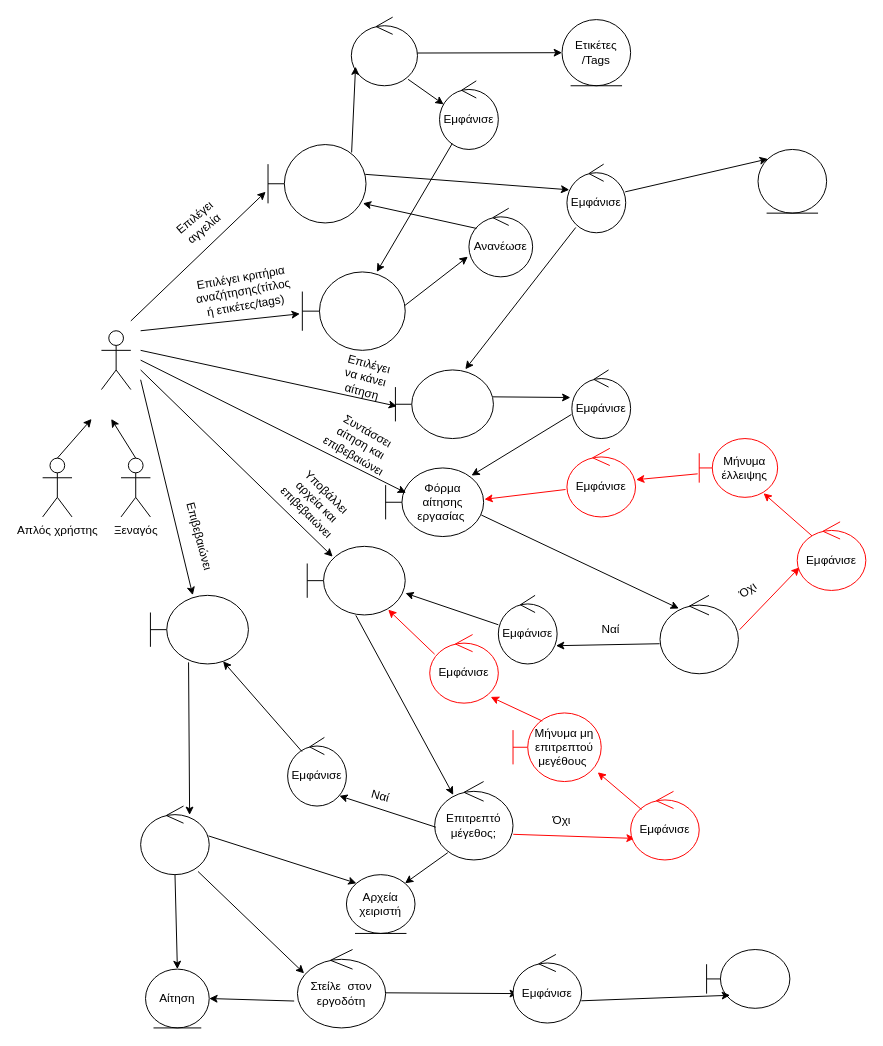
The diagram is 883 pixels wide and 1046 high, and some of its shapes have lost their labels. The shapes that lost their labels are listed below. From the top down, each one's centre as x and y in pixels, then its label:
At point 383,51: "Φόρτωσε".
At point 316,183: "Λίστα αγγελιών εργασίας".
At point 792,180: "Αγγελία".
At point 353,310: "Πεδίο επιλογής κριτηρίων αναζήτησης".
At point 115,360: "Χειριστής".
At point 443,404: "Οθόνη πληροφοριών αγγελίας".
At point 355,580: "Οθόνη υποβολής αρχείων".
At point 198,629: "Οθόνη επιβεβαίωσης".
At point 698,634: "Επαρκείς πληροφορίες;".
At point 174,840: "Καταχώρησε".
At point 748,978: "Μήνυμα επιτυχίας".
